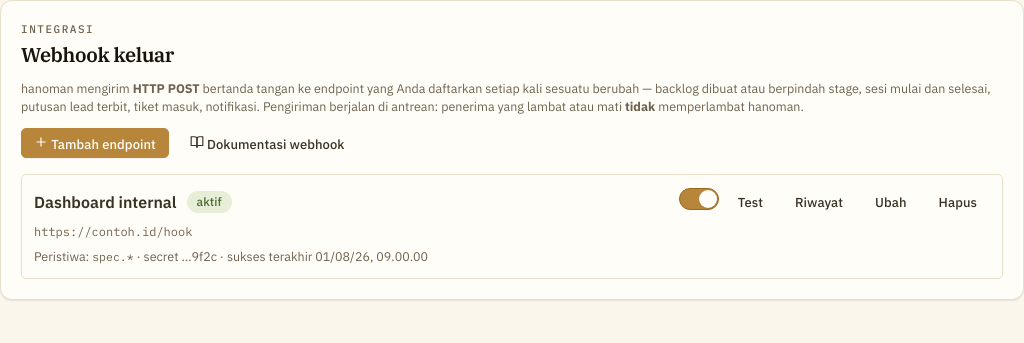
it: WebhooksPanel › tombol Test yang gagal memperlihatkan pesan galatnya, bukan sekadar `gagal`
Click the button "Test": (750, 202) [725, 187, 776, 217]
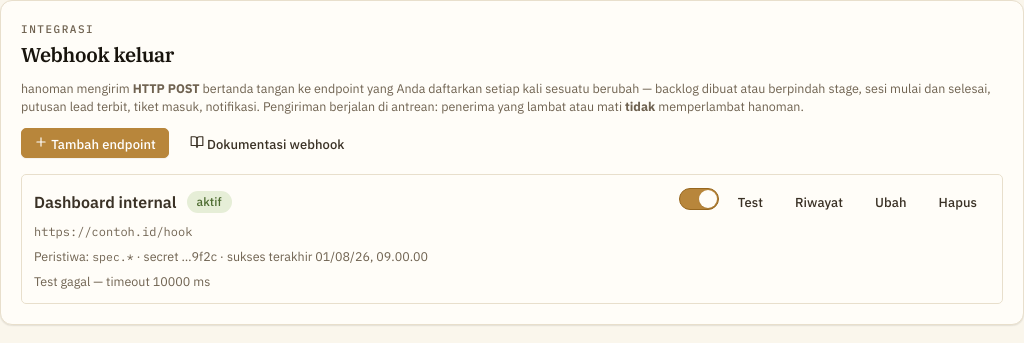
Check: the text "Test gagal — timeout 10000 ms" is shown, box [34, 273, 210, 289]
